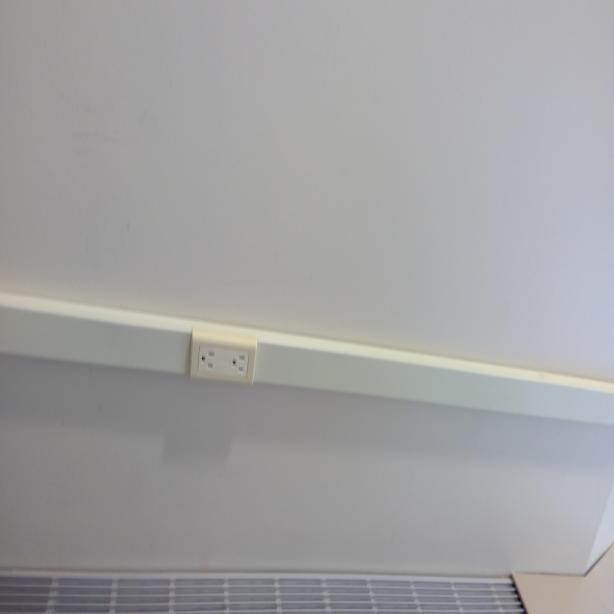typeb: (198, 340, 217, 376), (229, 350, 247, 379)
